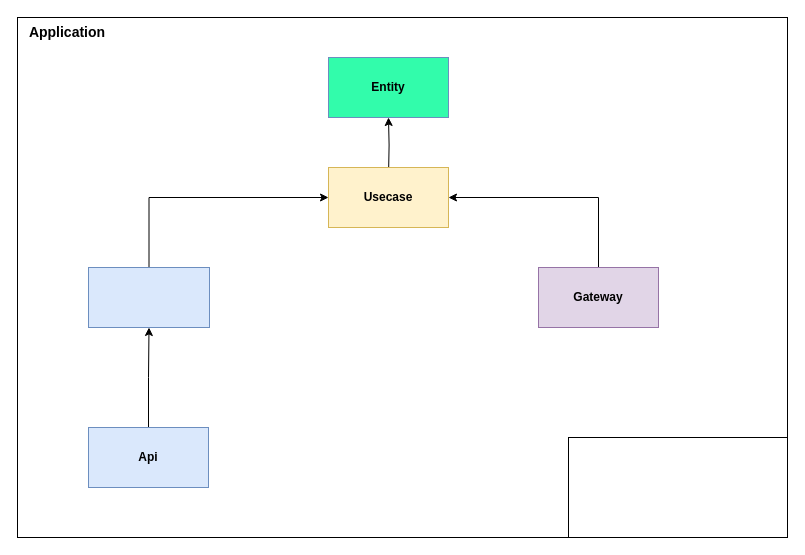
The diagram is 805 pixels wide and 555 high, and some of its shapes have lost their labels. Here are the shapes that lost their labels. From the top down, the box of each, then its label:
(88, 266, 210, 328): Controller
(568, 436, 788, 538): As setas representam a ordem de dependência dos módulos
